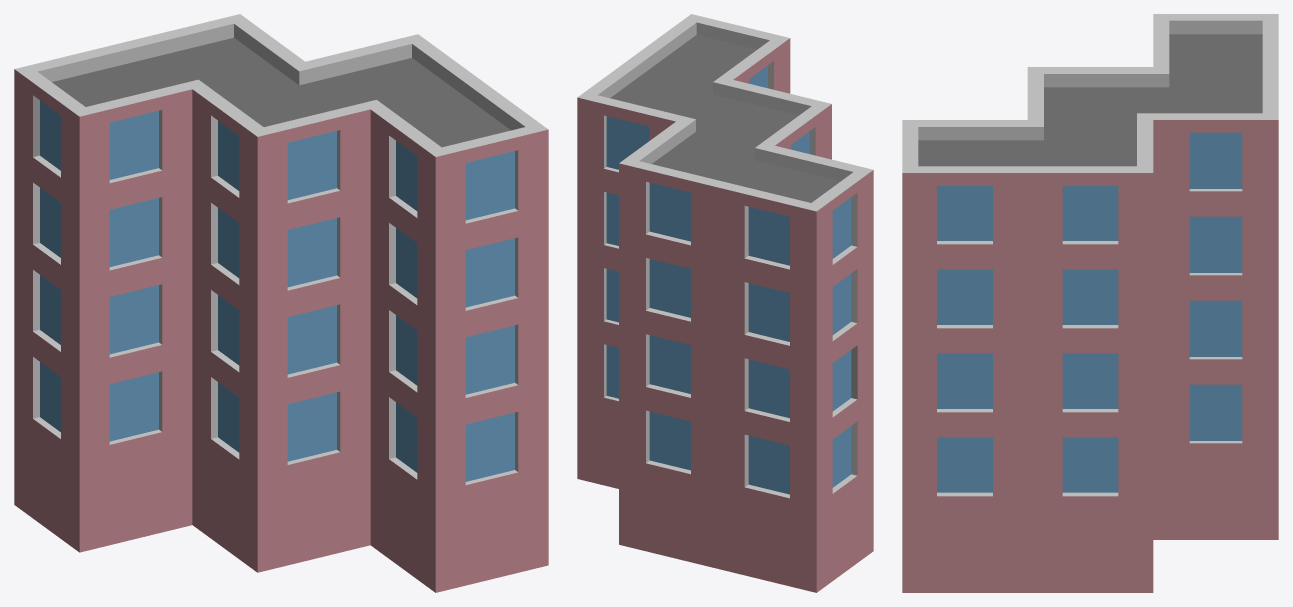
File: building3.fbx
The picture shows the model from 3 angles, left to right: view 1: azimuth 30°, elevation 25°; view 2: azimuth 150°, elevation 25°; view 3: azimuth 270°, elevation 25°; orthographic projection. The views are drawn at different scales.
Parts seen in each view (by area): view 1: polySurface6; view 2: polySurface6; view 3: polySurface6.
Part boxes in pixels (<box>): polySurface6: <box>14,14,548,592</box>; polySurface6: <box>577,14,873,592</box>; polySurface6: <box>902,14,1278,592</box>.
Size of the model in its own units: 78.75 by 96.86 by 78.75.
